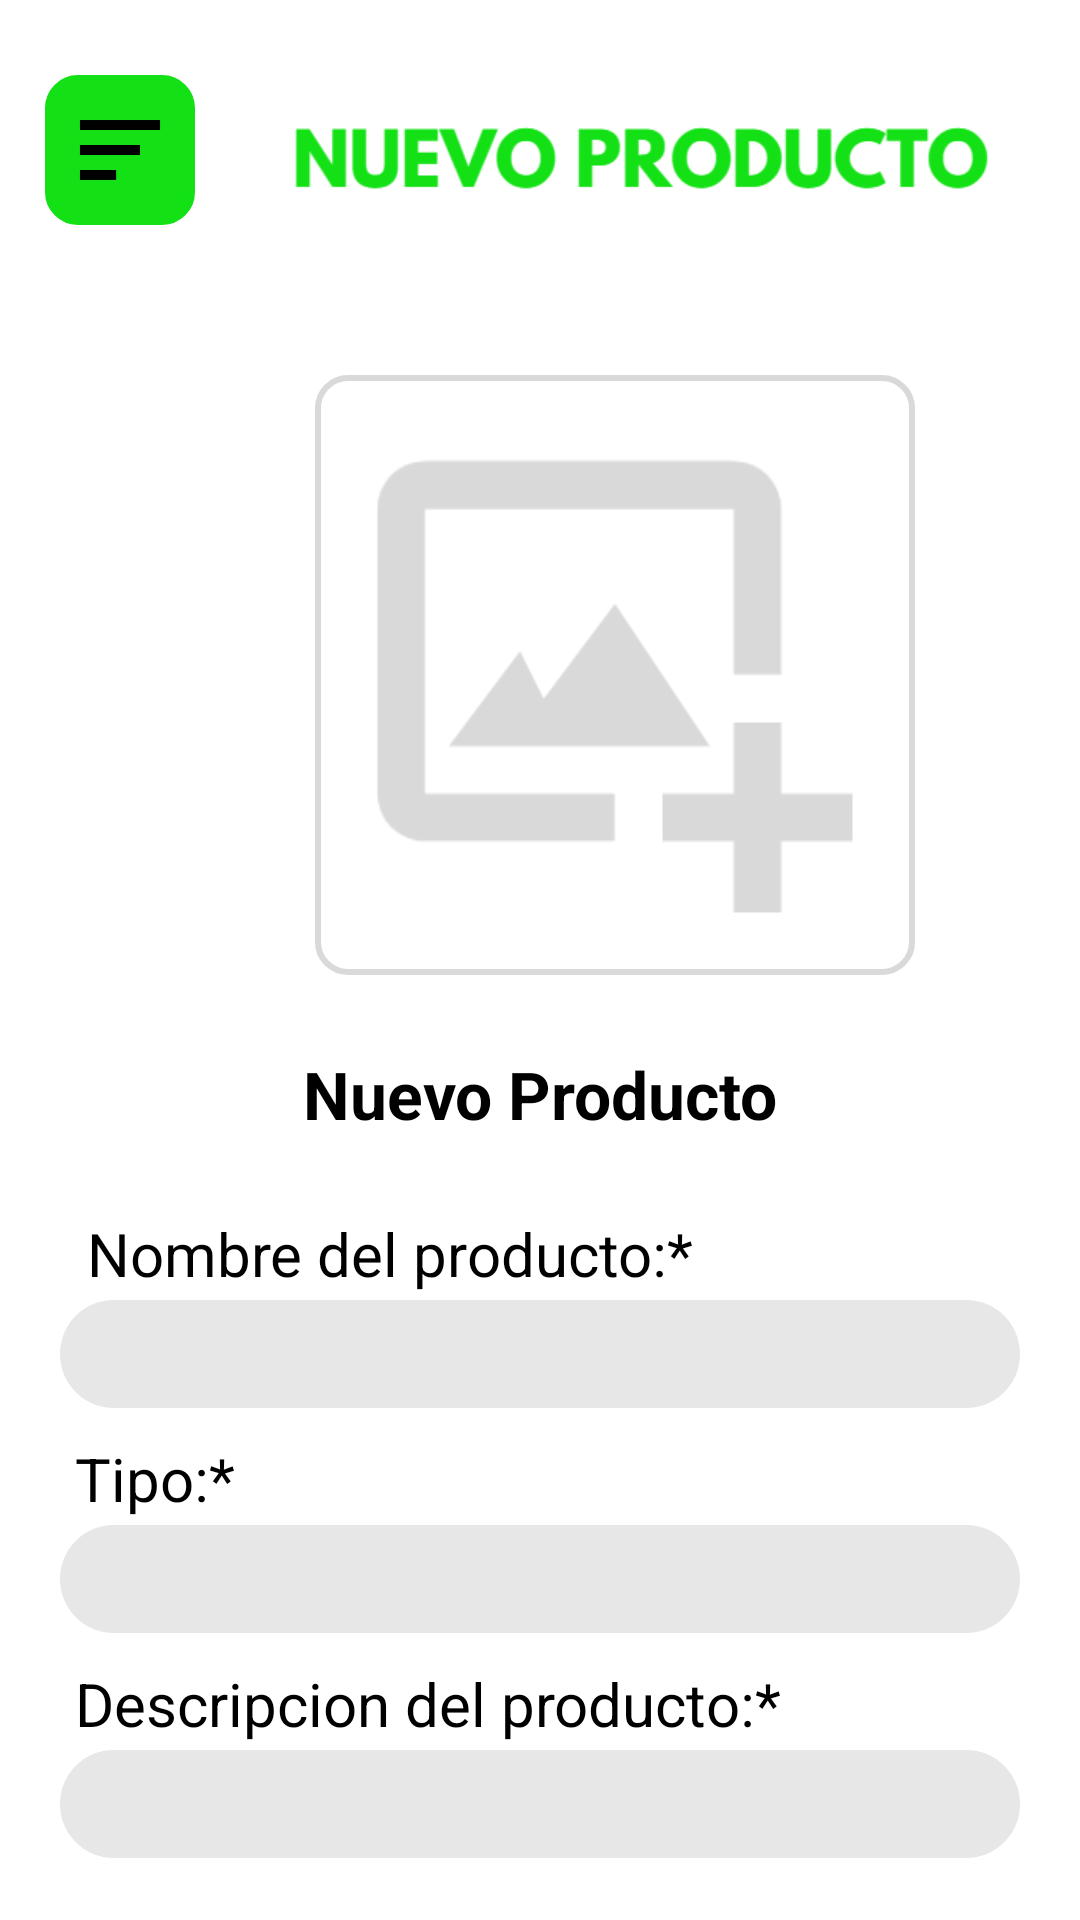

Named icons in this screenshot (1080×1920) and their bounding boxes, (x1, y1, x2, y2):
menu: (80, 120, 160, 180)
